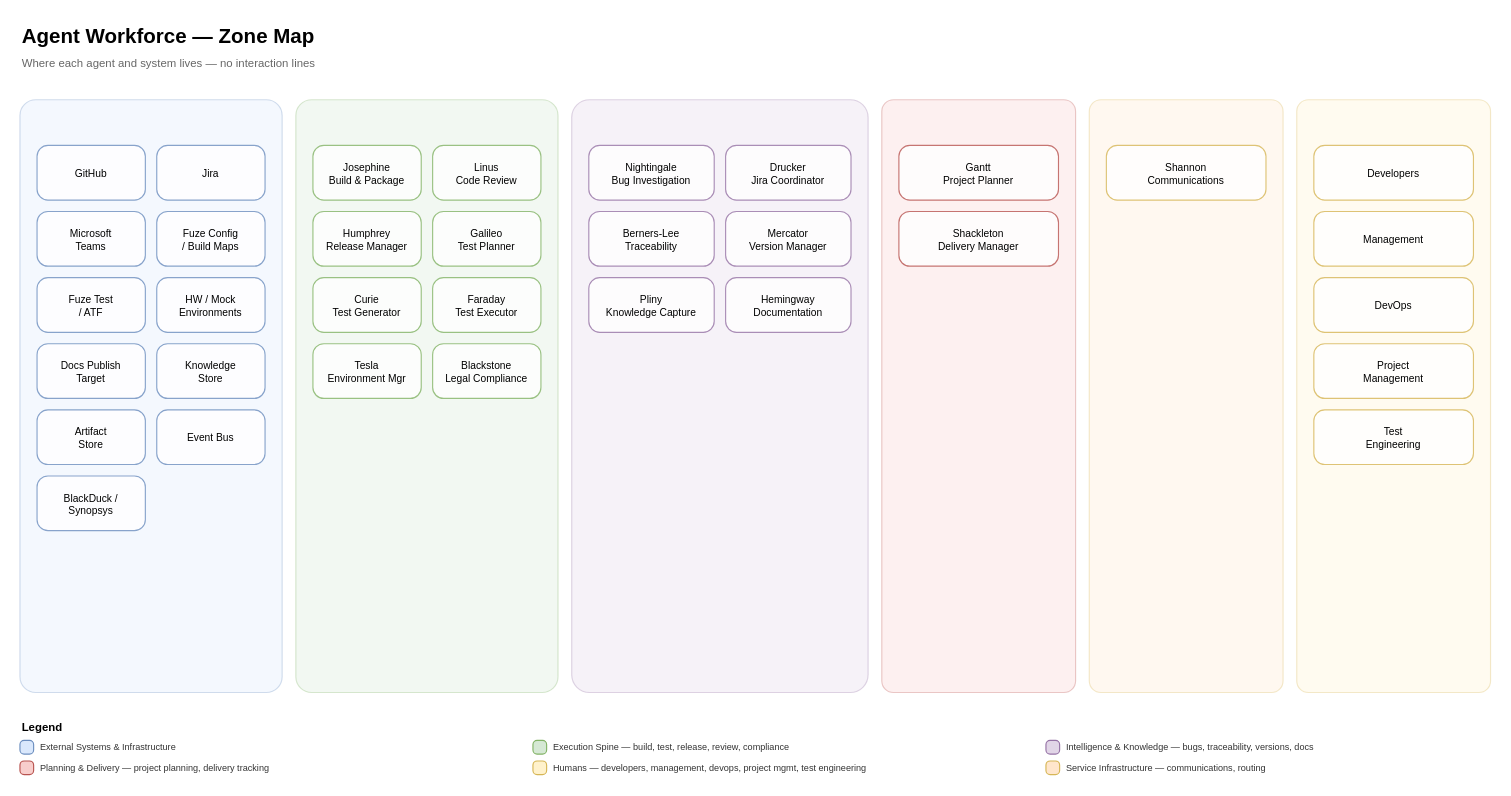
Some shapes in this 1511 by 796 pixel diagram are drawn without their labels. The box of each missing label's shape, as (x1, y1, x2, y2) in pixels:
Execution Spine: (295, 99, 558, 693)
External Systems: (19, 99, 282, 693)
Humans: (1296, 99, 1491, 693)
Intelligence & Knowledge: (571, 99, 868, 693)
Planning & Delivery: (881, 99, 1076, 693)
Service Infrastructure: (1088, 99, 1283, 693)
